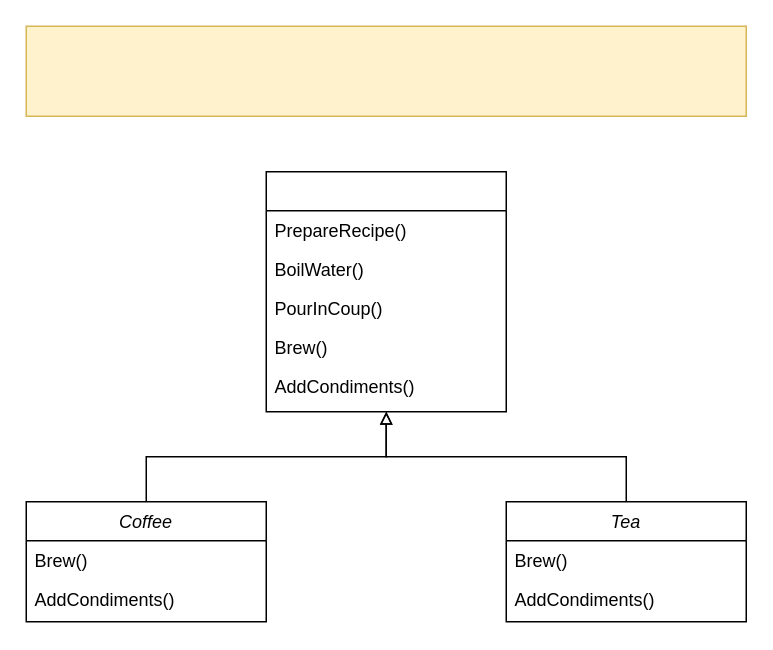
Some shapes in this 773 by 650 pixel diagram are drawn without their labels. Here are the shapes that lost their labels. From the top down, the box of each, then its label:
(25, 25, 746, 116): The Template Method Pattern
(265, 170, 506, 412): CaffeineBeverage
